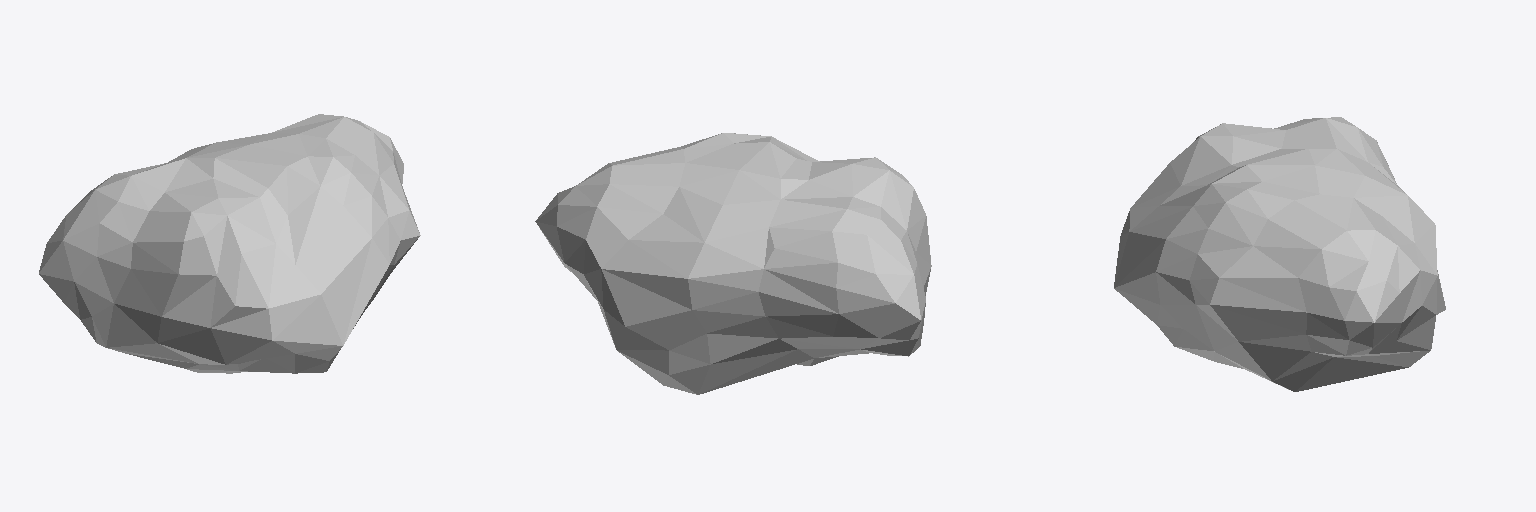
Rendered from Cloud_1.obj.
3 renders of one model, left to right at view 1: azimuth 30°, elevation 25°; view 2: azimuth 150°, elevation 25°; view 3: azimuth 270°, elevation 25°, orthographic.
Visible parts, largest first — view 1: Cloud; view 2: Cloud; view 3: Cloud.
Boxes of the visible parts, x1=… form: Cloud: x1=39, y1=114, x2=420, y2=373; Cloud: x1=535, y1=133, x2=931, y2=394; Cloud: x1=1114, y1=117, x2=1445, y2=391.
Size of the model in its own units: 2.27 by 1.15 by 1.76.